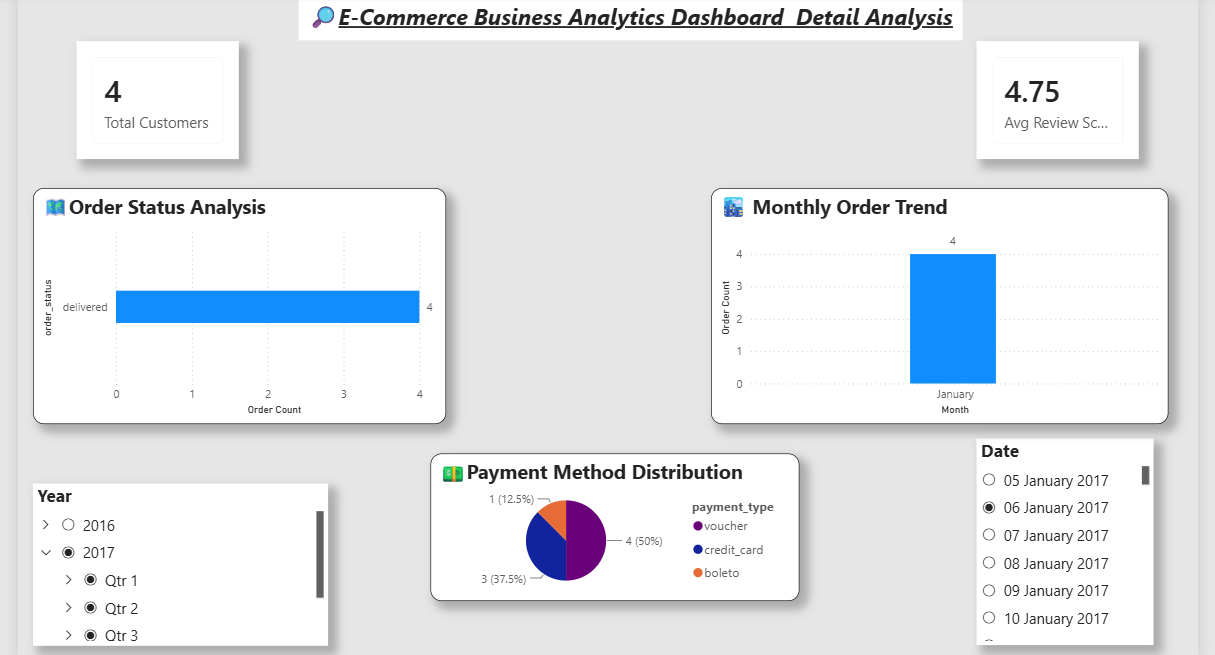

Layout of this report page (visuals, bound fields, positions):
{"tool":"powerbi","page":{"name":"Detail Analysis","canvas":[1280,720],"ordinal":1},"visuals":[{"type":"listSlicer","fields":{"Values":["cleaned_olist_orders_dataset.Date.Variation.Date Hierarchy.Year"]},"box":[10,0,312.9,324.3],"z":0},{"type":"clusteredBarChart","fields":{"Category":["cleaned_olist_orders_dataset.order_status"],"Y":["Calendar.Order Count"]},"box":[371.4,0,388.6,227.1],"z":1000},{"type":"clusteredColumnChart","fields":{"Category":["Calendar.Month"],"Y":["Calendar.Order Count"]},"box":[542.9,267.1,322.9,261.4],"z":2000},{"type":"cardVisual","fields":{"Data":["Calendar.Total Customers"]},"box":[0,342.9,201.4,168.6],"z":3000},{"type":"listSlicer","fields":{"Values":["Calendar.Date.Variation.Date Hierarchy.Year","Calendar.Date.Variation.Date Hierarchy.Quarter","Calendar.Date.Variation.Date Hierarchy.Month","Calendar.Date.Variation.Date Hierarchy.Day"]},"box":[217.1,398.6,274.3,171.4],"z":3001}]}

Visuals, with their boxes on the page's 1280x720 design canvas (x1, y1, x2, y2). These are canvas units, not pixel positions in the 1215x655 screenshot, which may show the page scaled, cropped or inside an application window:
listSlicer - cleaned_olist_orders_dataset.Date.Variation.Date Hierarchy.Year: region(10, 0, 323, 324)
clusteredBarChart - cleaned_olist_orders_dataset.order_status x Calendar.Order Count: region(371, 0, 760, 227)
clusteredColumnChart - Calendar.Month x Calendar.Order Count: region(543, 267, 866, 528)
cardVisual - Calendar.Total Customers: region(0, 343, 201, 512)
listSlicer - Calendar.Date.Variation.Date Hierarchy.Year x Calendar.Date.Variation.Date Hierarchy.Quarter: region(217, 399, 491, 570)
